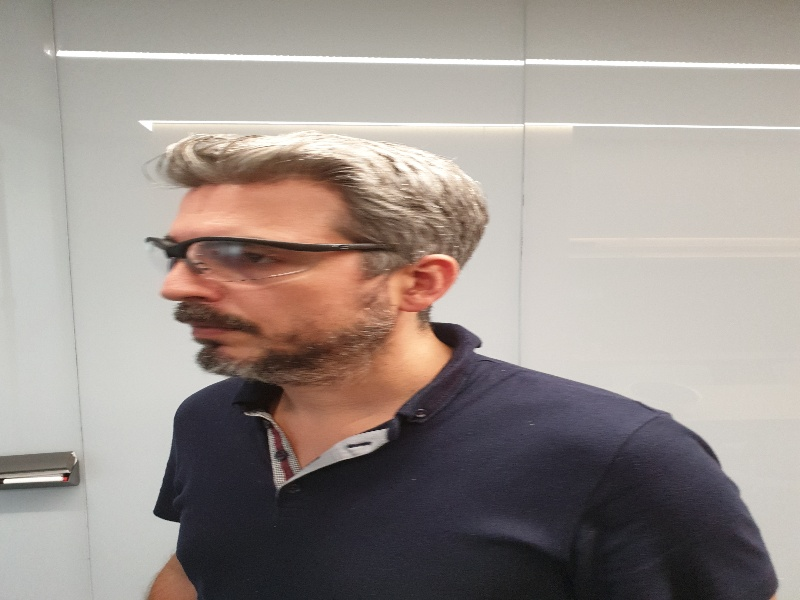Gozluk: (139, 235, 393, 282)
